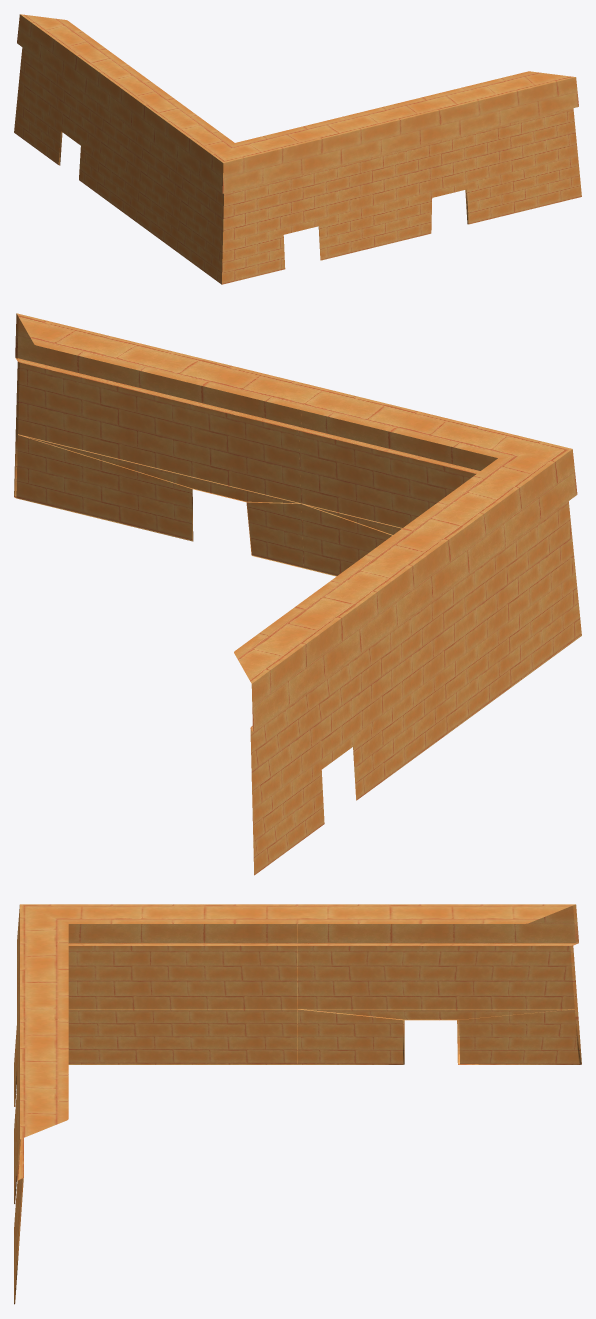
Rendered from temple-floor02-cut-001.glb.
The picture shows the model from 3 angles, top to bottom: view 1: azimuth 30°, elevation 25°; view 2: azimuth 150°, elevation 25°; view 3: azimuth 270°, elevation 25°; orthographic projection. The views are drawn at different scales.
Parts seen in each view (by area): view 1: TempleFloor02_Cut.001; view 2: TempleFloor02_Cut.001; view 3: TempleFloor02_Cut.001.
Boxes of the visible parts, x1=… form: TempleFloor02_Cut.001: x1=14, y1=14, x2=581, y2=284; TempleFloor02_Cut.001: x1=14, y1=313, x2=581, y2=875; TempleFloor02_Cut.001: x1=14, y1=904, x2=581, y2=1304.
Bounding box in the file's own units: 54.81 × 17.32 × 54.78.
Materials: 2 (2 with a texture image).
